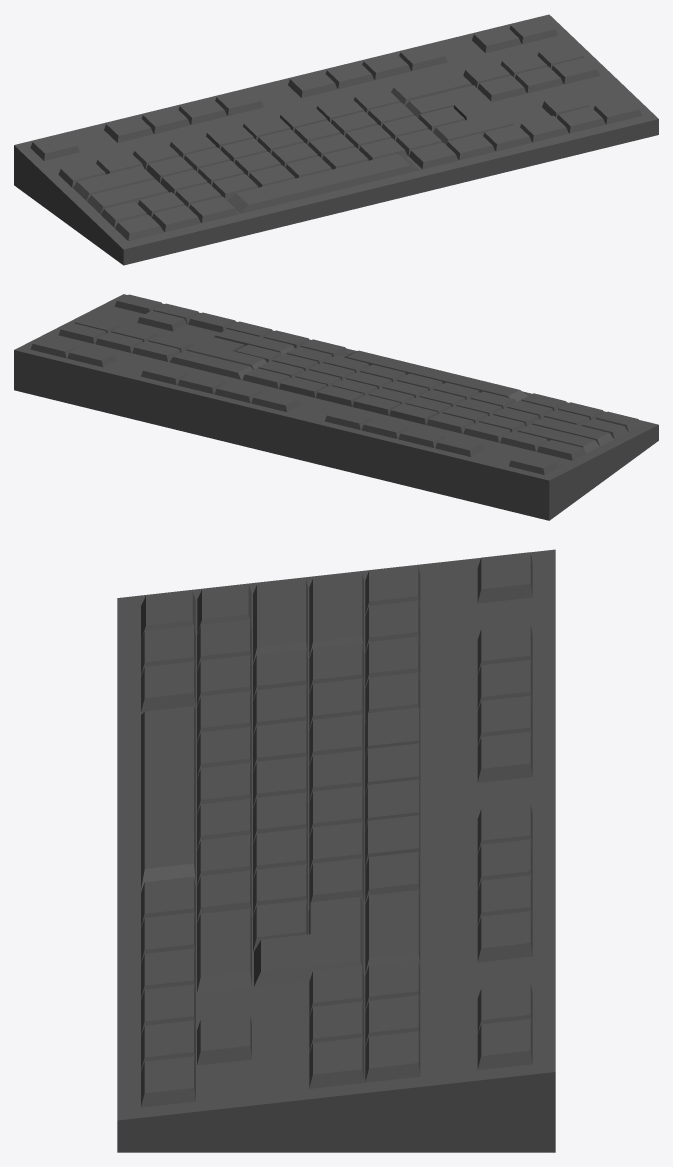
Rendered from KeyBoardPiece.fbx.
The picture shows the model from 3 angles, top to bottom: view 1: azimuth 30°, elevation 25°; view 2: azimuth 150°, elevation 25°; view 3: azimuth 270°, elevation 25°; orthographic projection. The views are drawn at different scales.
Visible parts, largest first — view 1: Cube.001; view 2: Cube.001; view 3: Cube.001.
Part boxes in pixels (left/top/right/bottom): Cube.001: left=14, top=14, right=658, bottom=265; Cube.001: left=14, top=294, right=658, bottom=520; Cube.001: left=117, top=549, right=555, bottom=1152.
Size of the model in its own units: 202 by 16.22 by 71.69.
